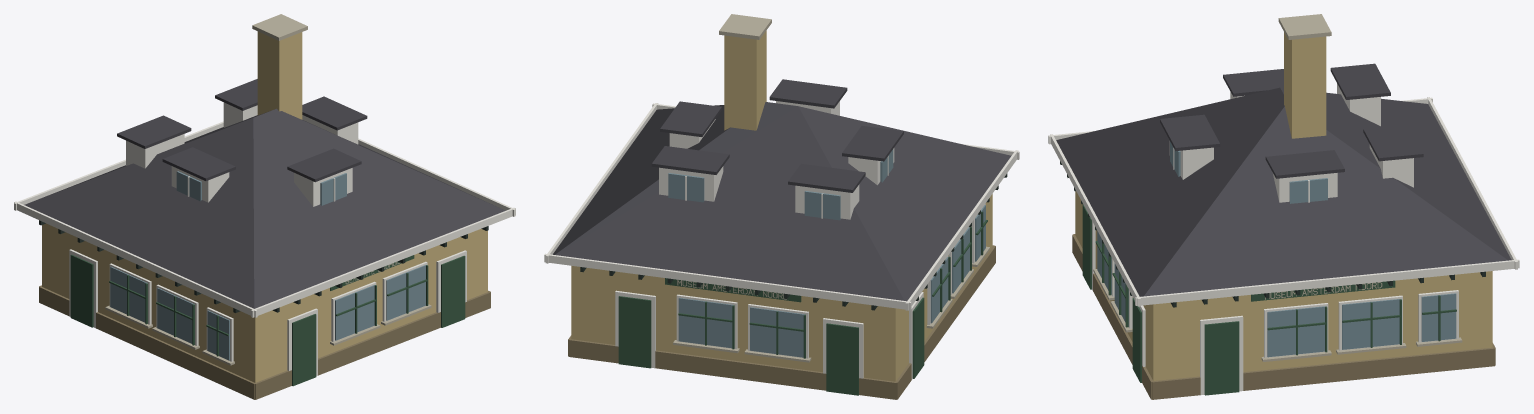
Rendered from museum-amsterdam-noord.glb.
The picture shows the model from 3 angles, left to right: view 1: azimuth 30°, elevation 25°; view 2: azimuth 150°, elevation 25°; view 3: azimuth 270°, elevation 25°; orthographic projection. The views are drawn at different scales.
Parts seen in each view (by area): view 1: museum-amsterdam-noord; view 2: museum-amsterdam-noord; view 3: museum-amsterdam-noord.
Part boxes in pixels (bbox=[...]): museum-amsterdam-noord: bbox=[14, 14, 515, 399]; museum-amsterdam-noord: bbox=[544, 14, 1019, 399]; museum-amsterdam-noord: bbox=[1048, 14, 1519, 399].
Size of the model in its own units: 13.55 by 9.3 by 13.36.
